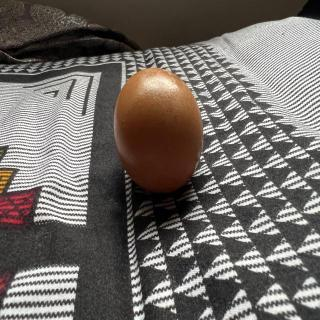Telur: (110, 67, 206, 196)
